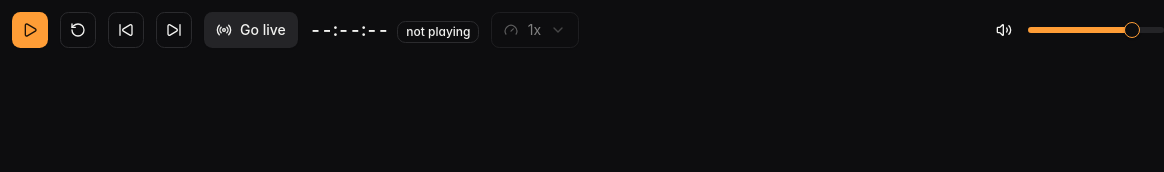
Test: the previous and next sound buttons › are both disabled while a search is running, and ready again after
This screenshot has width=1164, height=172.
Step 1. Click the button named "Next sound" → (174, 30), box [156,12,192,48]
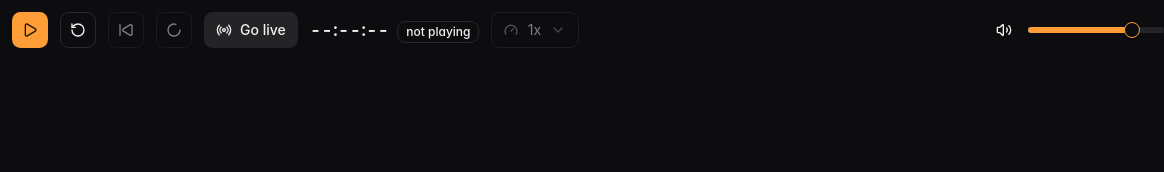
Expected: the button named "Next sound" is disabled, [156,12,192,48]
Expected: the button named "Previous sound" is disabled
// A second press while busy starts nothing.
Step 2. Click the button named "Previous sound" → (126, 30), box [108,12,144,48]
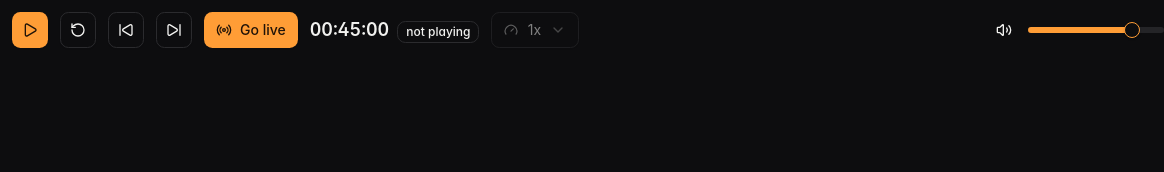
Expected: the button named "Next sound" is enabled, [156,12,192,48]
Expected: the button named "Previous sound" is enabled, [108,12,144,48]
